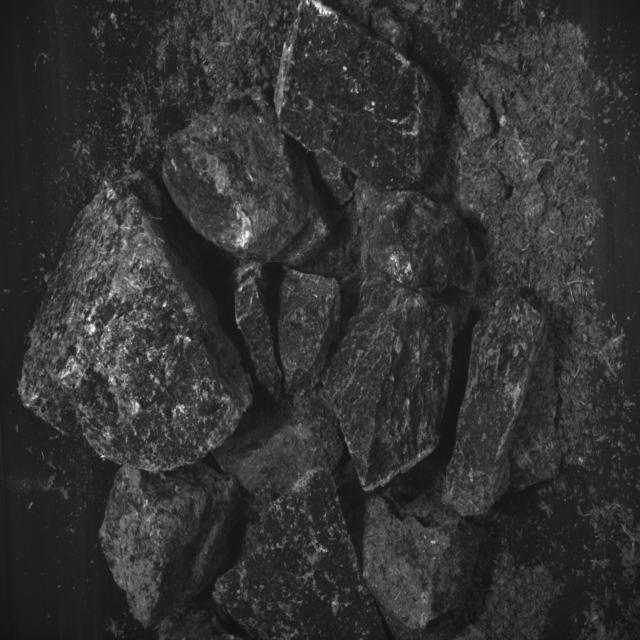Stones: (20, 173, 252, 472), (276, 1, 442, 191), (164, 90, 331, 267), (215, 469, 386, 640), (325, 278, 454, 491), (444, 294, 561, 517), (100, 465, 241, 629), (364, 498, 480, 640), (357, 180, 480, 295), (215, 398, 344, 495), (279, 270, 342, 395), (232, 264, 282, 401), (157, 607, 237, 640), (512, 433, 513, 434)
